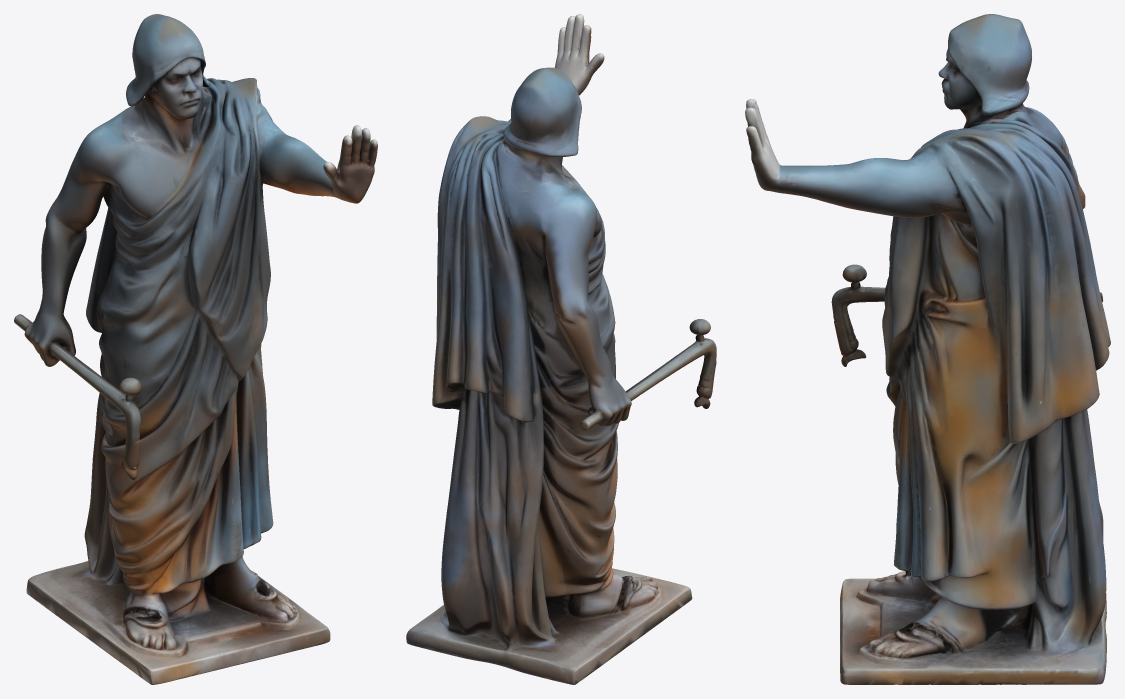
Rendered from Meshy_AI__Béhanzin.glb.
3 renders of one model, left to right at view 1: azimuth 30°, elevation 25°; view 2: azimuth 150°, elevation 25°; view 3: azimuth 270°, elevation 25°, orthographic. The views are drawn at different scales.
Size of the model in its own units: 0.7332 by 2 by 1.06.
1 material, 1 textured.
